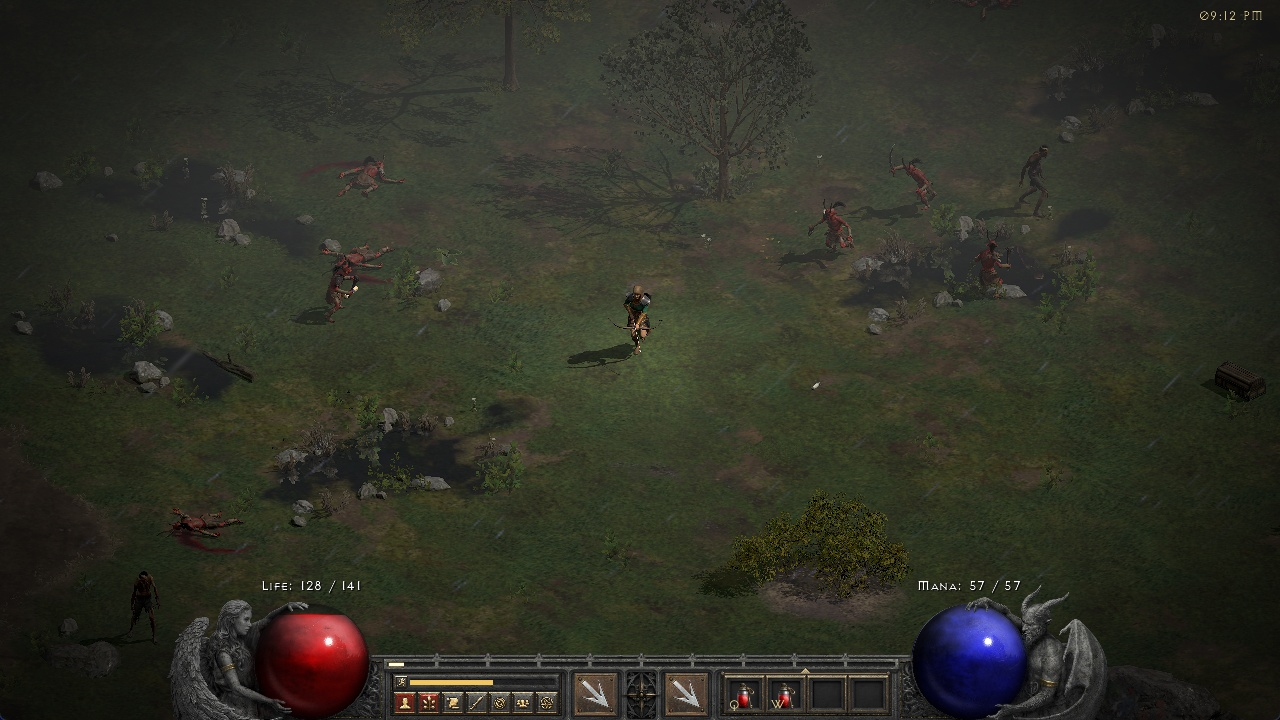fallen: (802, 195, 859, 261), (883, 142, 938, 205), (969, 228, 1015, 297), (321, 260, 363, 321)
